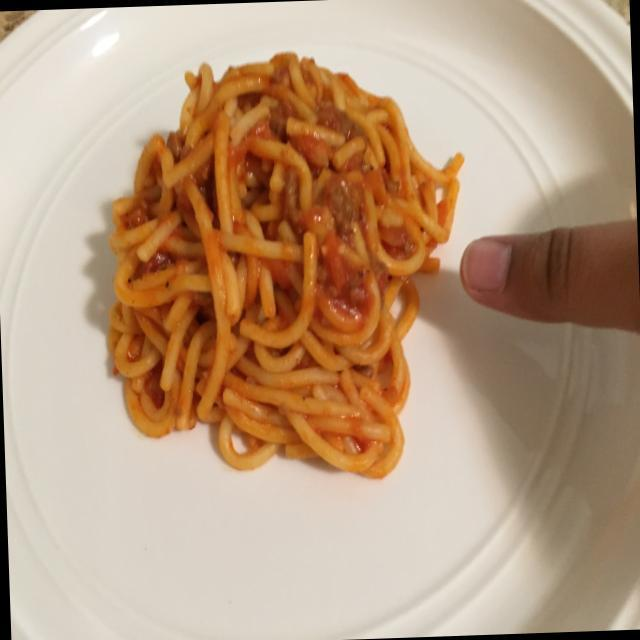Pasta: (50, 18, 457, 520)
